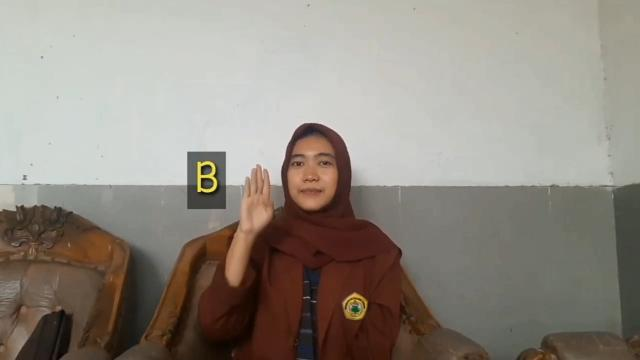B: (240, 164, 274, 234)
